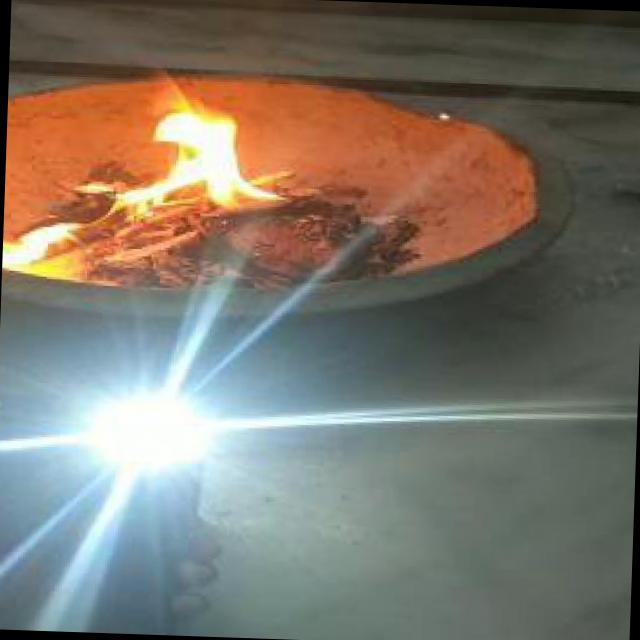fire: (2, 102, 300, 287)
